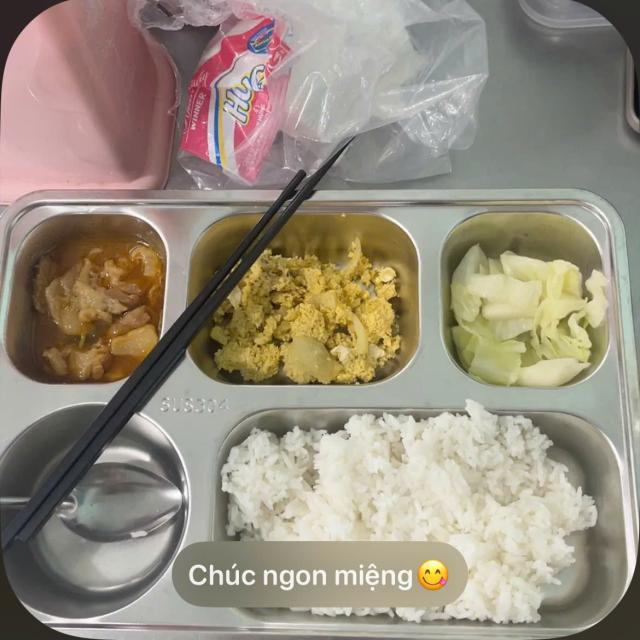com_trang: (237, 418, 605, 536)
thit_kho: (35, 245, 148, 369)
